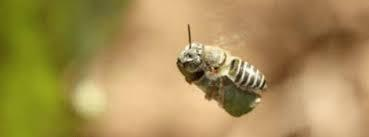Seladonia: (168, 28, 274, 115)
